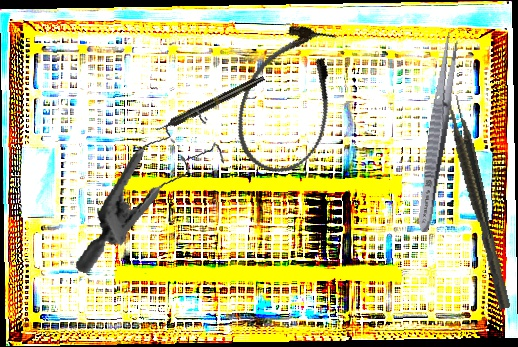Cannula: (222, 13, 356, 185)
Dressing Forceps: (413, 30, 462, 234)
Handpiece: (153, 73, 267, 135)
Speculum: (74, 92, 233, 294)
Tissue Forceps: (443, 93, 512, 312)
